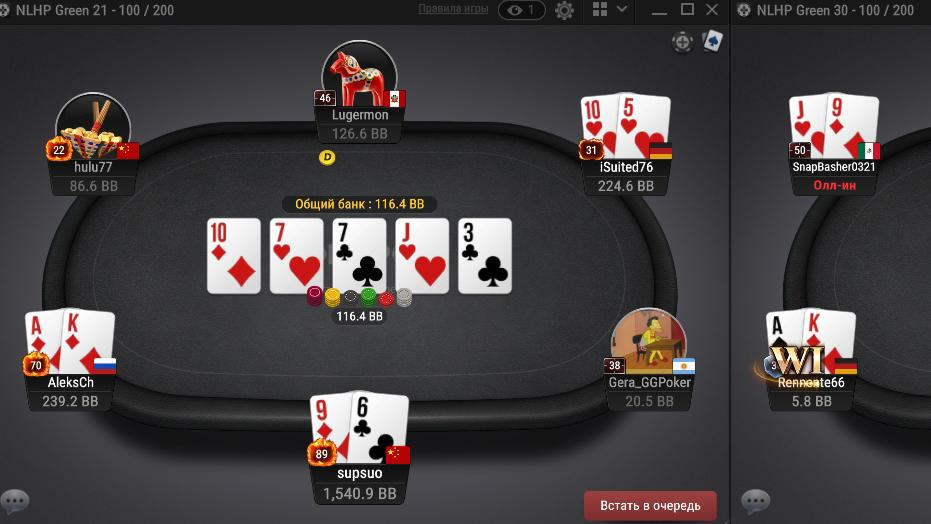10d: (206, 219, 260, 294)
10h: (581, 96, 619, 157)
3c: (459, 219, 511, 294)
5h: (618, 93, 671, 160)
6c: (352, 391, 408, 464)
7c: (332, 217, 386, 292)
7h: (271, 219, 322, 293)
9d: (824, 93, 880, 160), (310, 394, 351, 463)
Ad: (26, 309, 64, 378)
As: (764, 309, 804, 351)
Jh: (396, 219, 451, 295), (790, 96, 826, 158)
Kd: (61, 307, 116, 376), (804, 308, 854, 375)
